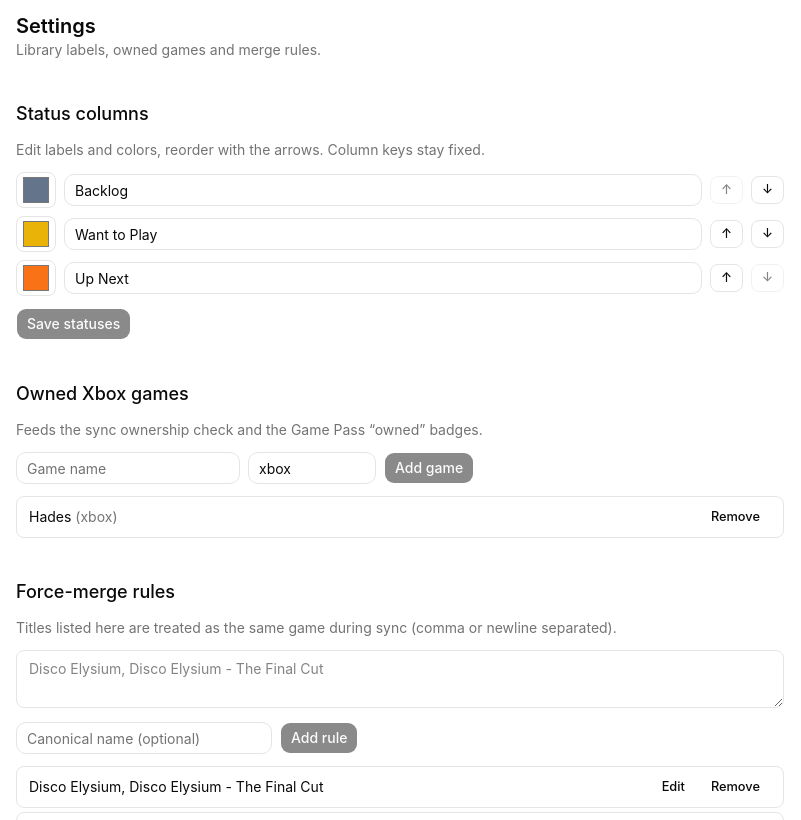
it: SettingsPage › keeps Save disabled until the form is dirty
Expected: the button "Save statuses" is disabled, [16,308,131,340]
In the field named "Label for backlog": (383, 190) [64,174,702,206], type "!"
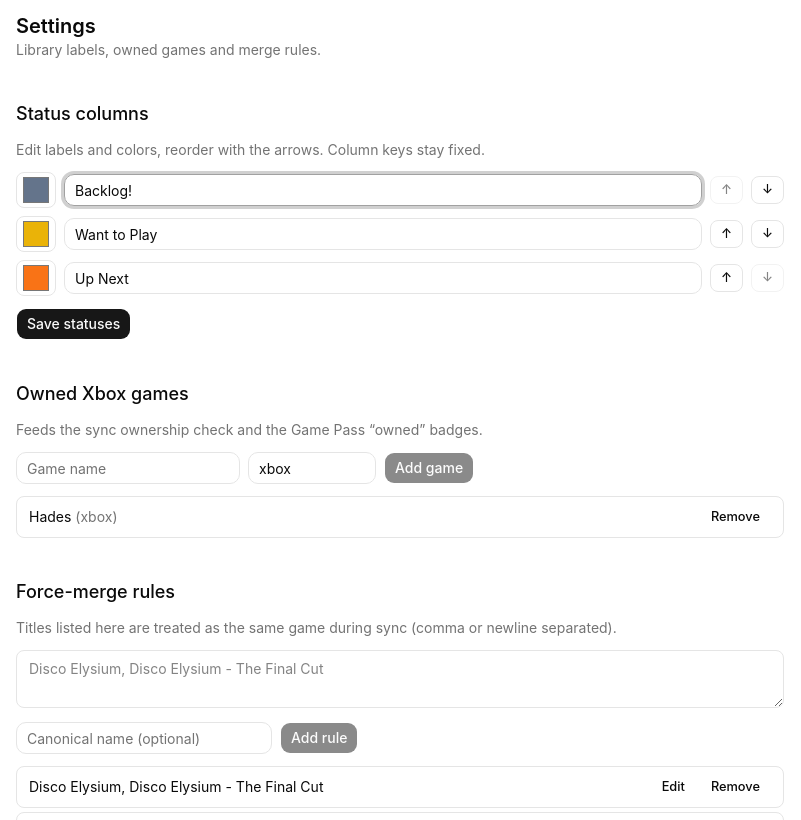
Result: the button "Save statuses" is enabled at [16,308,131,340]
